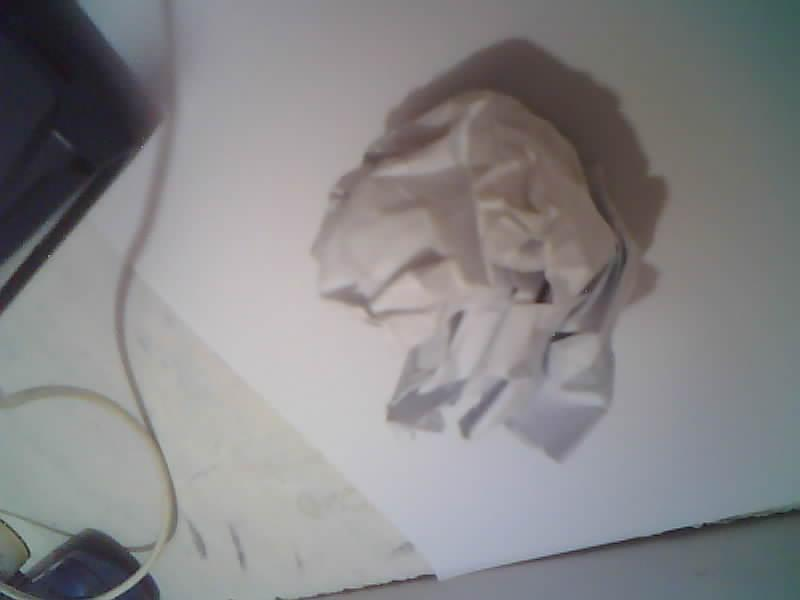biodegradable: (312, 91, 637, 459)
